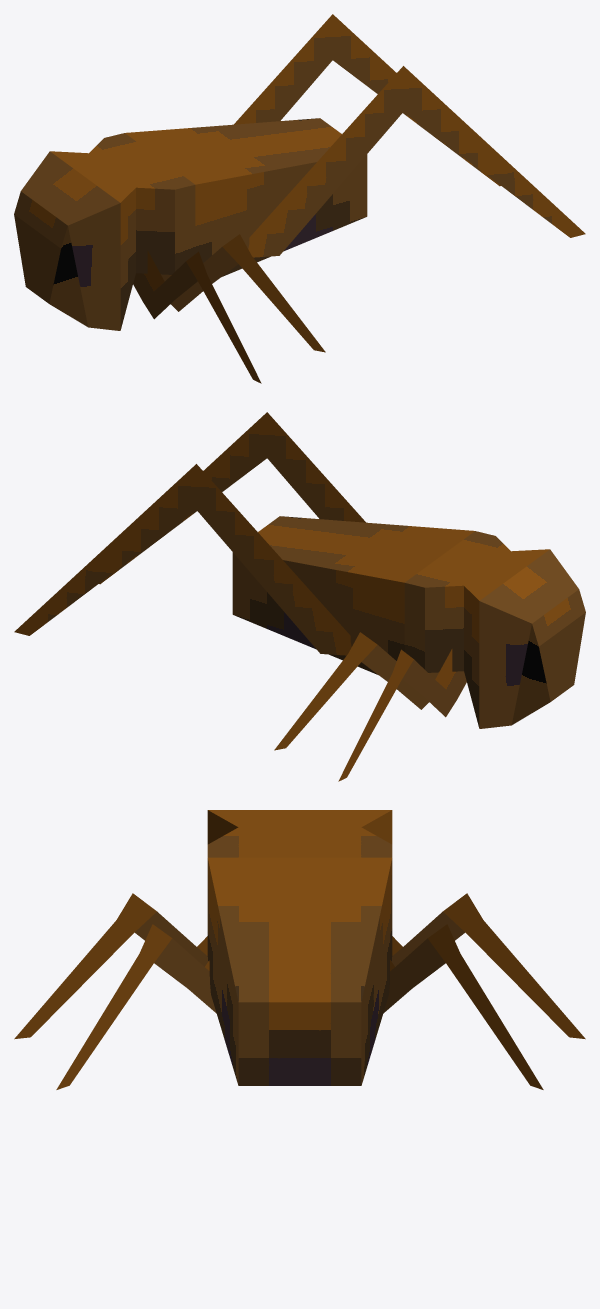
The model's file is cricket.gltf.
3 renders of one model, top to bottom at view 1: azimuth 30°, elevation 25°; view 2: azimuth 150°, elevation 25°; view 3: azimuth 270°, elevation 25°, orthographic. The views are drawn at different scales.
Visible parts, largest first — view 1: body, backleft, backright, frontleft, midleft; view 2: body, backright, backleft, frontright, midright; view 3: body, midright, midleft, frontleft, frontright.
Part boxes in pixels (bbox=[...]): body: bbox=[14, 118, 367, 330]; backleft: bbox=[248, 66, 585, 257]; backright: bbox=[234, 14, 500, 186]; frontleft: bbox=[133, 251, 261, 383]; midleft: bbox=[161, 234, 325, 352]; body: bbox=[232, 516, 585, 728]; backright: bbox=[14, 464, 351, 655]; backleft: bbox=[99, 412, 365, 584]; frontright: bbox=[338, 649, 466, 781]; midright: bbox=[274, 632, 438, 750]; body: bbox=[207, 810, 392, 1085]; midright: bbox=[383, 924, 543, 1089]; midleft: bbox=[56, 924, 216, 1089]; frontleft: bbox=[14, 893, 208, 1039]; frontright: bbox=[391, 893, 585, 1039].
Size of the model in its own units: 1.57 by 0.6234 by 1.16.
Materials: 3 (3 with a texture image).
